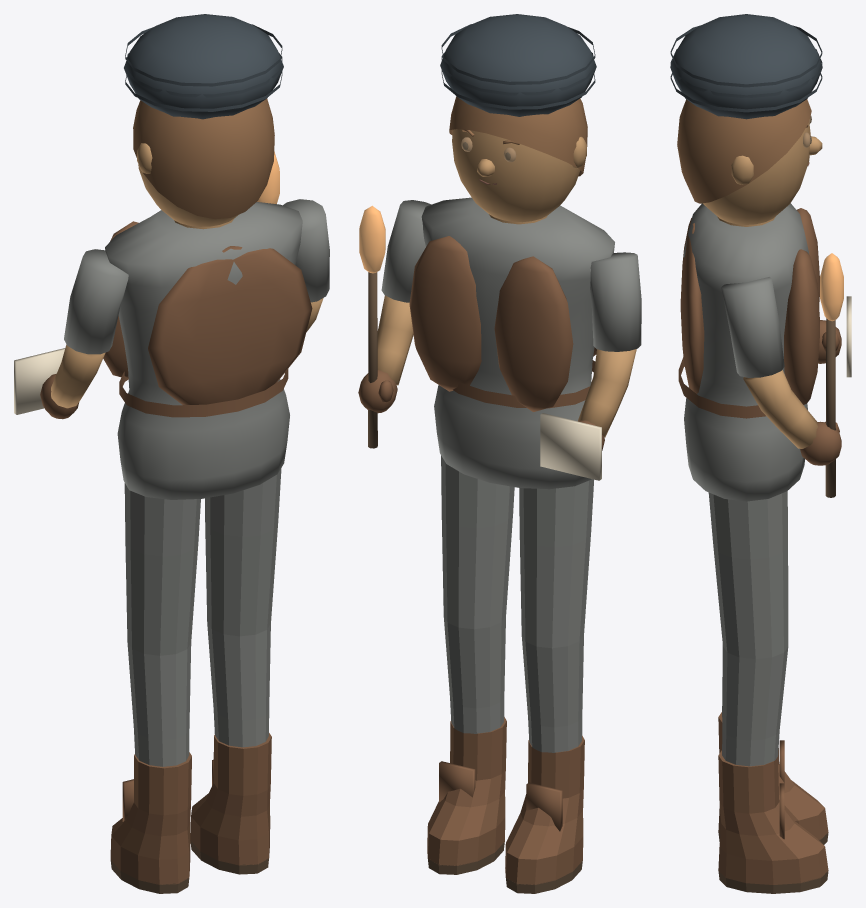
The model's file is SM_NPC_CENIZA.glb.
3 renders of one model, left to right at view 1: azimuth 30°, elevation 25°; view 2: azimuth 150°, elevation 25°; view 3: azimuth 270°, elevation 25°, orthographic. The views are drawn at different scales.
Visible parts, largest first — view 1: SM_NPC_CENIZA_BODY, SM_NPC_CENIZA_LEG_L, SM_NPC_CENIZA_HAIR, SM_NPC_CENIZA_LEG_R, SM_NPC_CENIZA_ARM_L, SM_NPC_CENIZA_ARM_R, SM_NPC_CENIZA_HEAD; view 2: SM_NPC_CENIZA_BODY, SM_NPC_CENIZA_LEG_L, SM_NPC_CENIZA_LEG_R, SM_NPC_CENIZA_HAIR, SM_NPC_CENIZA_ARM_L, SM_NPC_CENIZA_ARM_R, SM_NPC_CENIZA_HEAD; view 3: SM_NPC_CENIZA_BODY, SM_NPC_CENIZA_LEG_R, SM_NPC_CENIZA_HAIR, SM_NPC_CENIZA_ARM_R, SM_NPC_CENIZA_HEAD, SM_NPC_CENIZA_LEG_L, SM_NPC_CENIZA_ARM_L.
Part boxes in pixels (x1,y1,x2,y2): SM_NPC_CENIZA_BODY: (103, 202, 312, 499); SM_NPC_CENIZA_LEG_L: (110, 483, 200, 893); SM_NPC_CENIZA_HAIR: (124, 14, 283, 219); SM_NPC_CENIZA_LEG_R: (190, 468, 281, 874); SM_NPC_CENIZA_ARM_L: (14, 249, 128, 419); SM_NPC_CENIZA_ARM_R: (257, 151, 329, 331); SM_NPC_CENIZA_HEAD: (137, 126, 273, 226); SM_NPC_CENIZA_BODY: (409, 197, 614, 489); SM_NPC_CENIZA_LEG_L: (505, 479, 593, 893); SM_NPC_CENIZA_LEG_R: (427, 455, 514, 874); SM_NPC_CENIZA_HAIR: (440, 14, 596, 176); SM_NPC_CENIZA_ARM_L: (540, 252, 641, 480); SM_NPC_CENIZA_ARM_R: (358, 200, 431, 448); SM_NPC_CENIZA_HEAD: (452, 129, 586, 222); SM_NPC_CENIZA_BODY: (678, 203, 819, 501); SM_NPC_CENIZA_LEG_R: (708, 491, 828, 893); SM_NPC_CENIZA_HAIR: (670, 14, 822, 203); SM_NPC_CENIZA_ARM_R: (721, 253, 843, 497); SM_NPC_CENIZA_HEAD: (703, 122, 822, 224); SM_NPC_CENIZA_LEG_L: (718, 491, 828, 844); SM_NPC_CENIZA_ARM_L: (818, 296, 851, 377).
Bounding box in the file's own units: 0.6157 × 1.88 × 0.3699.
